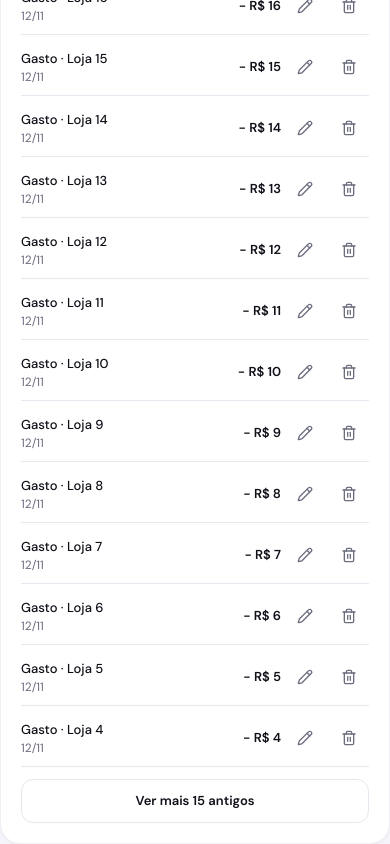
lançamentos do Ticket: nada some por ser antigo › mostra mais do que os 12 de antes e não corta lançamentos de datas anteriores
(page scrolled)
"Ver mais" chega até os antigos
What coordinates should you click on to do the following:
click the button "Ver mais 15 antigos"
I would click on:
 (195, 801)
Its box is [21,779,369,823].
(page scrolled)
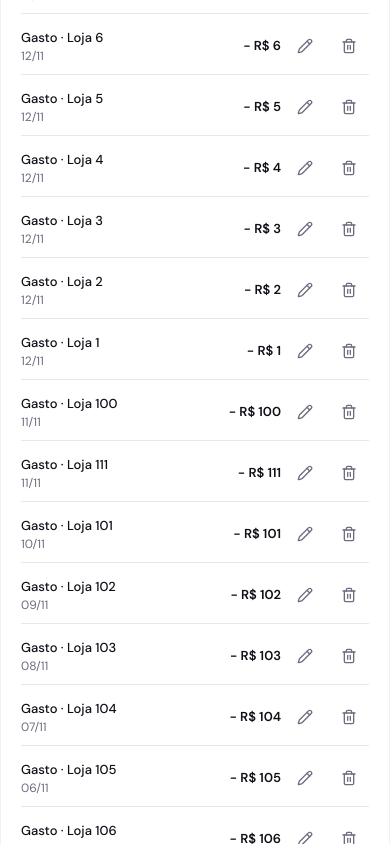
Expected: the button "Ver mais" is gone
Expected: the text "11/11" below "· Loja 100" is shown, [21,414,41,430]
